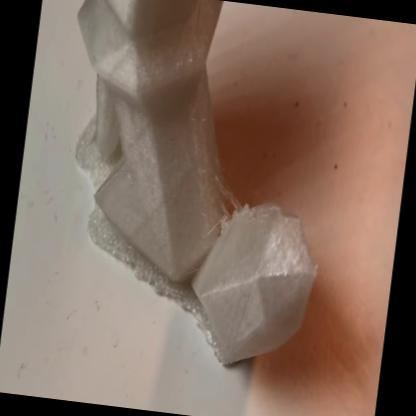fail: (206, 174, 254, 231)
